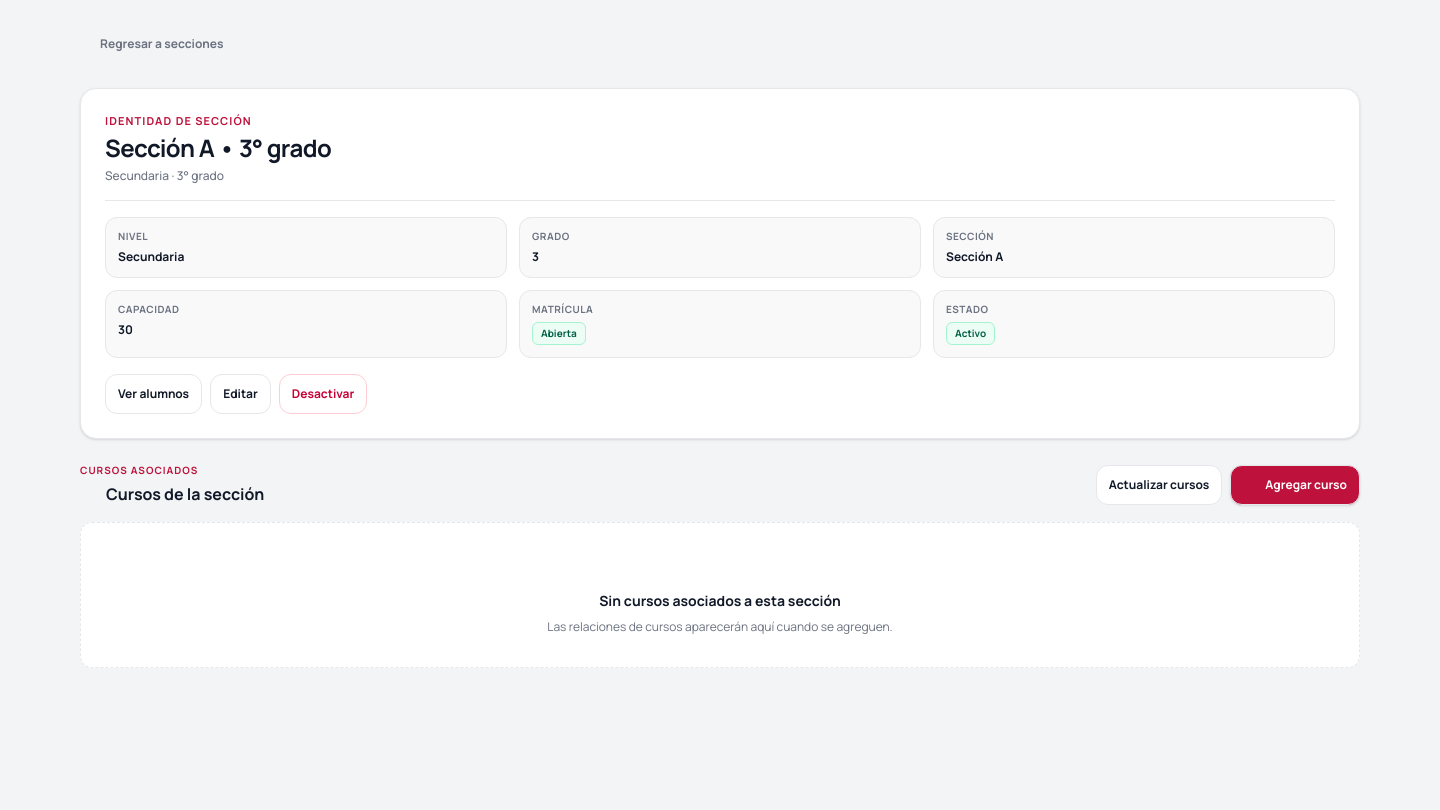
Test: deactivation that finds the section already inactive does not ask for confirmation
The width and height of the screenshot is (1440, 810).
Click the button "Desactivar" at (323, 394), box top-left (279, 374), bottom-right (367, 414)
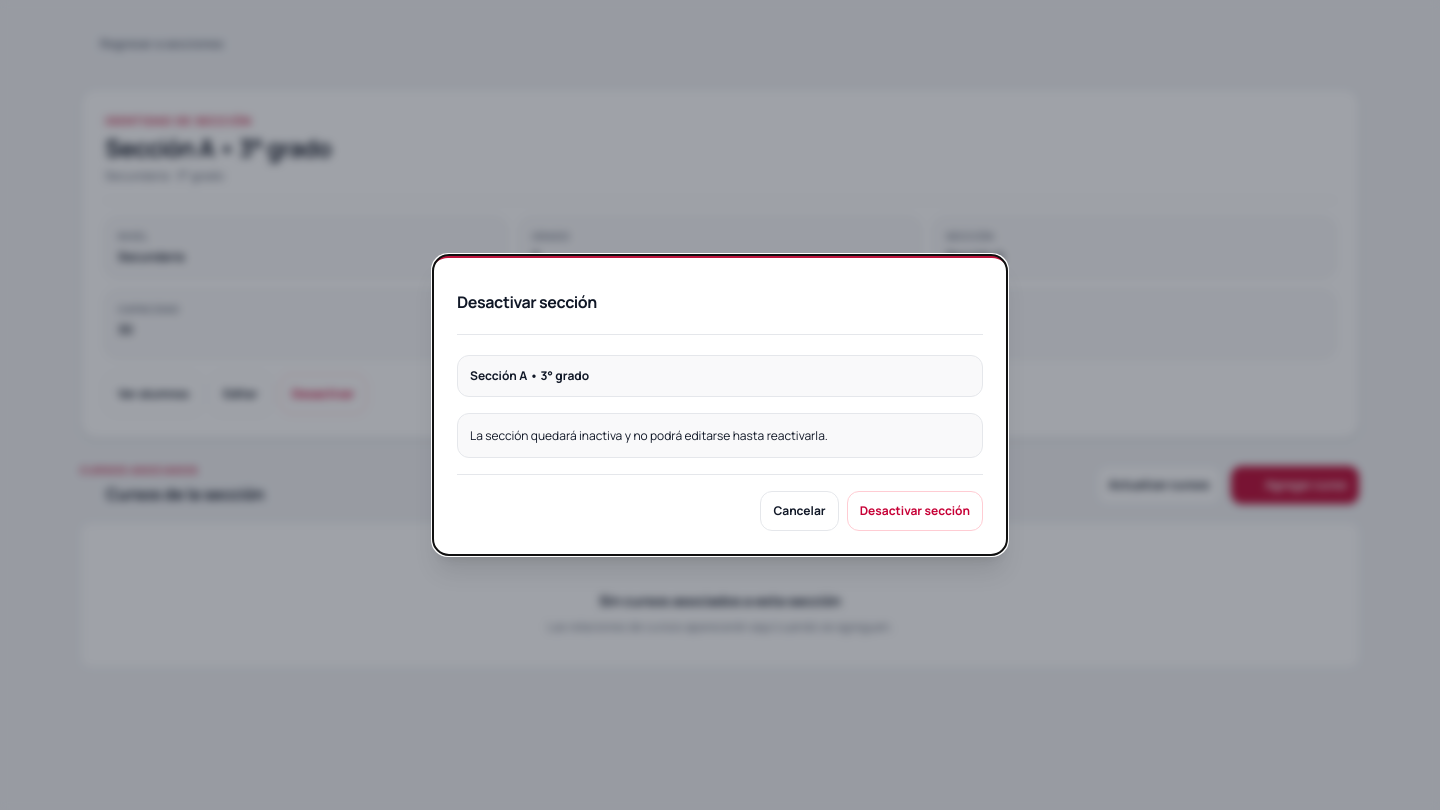
Submit the form, box top-left (457, 355), bottom-right (983, 531)
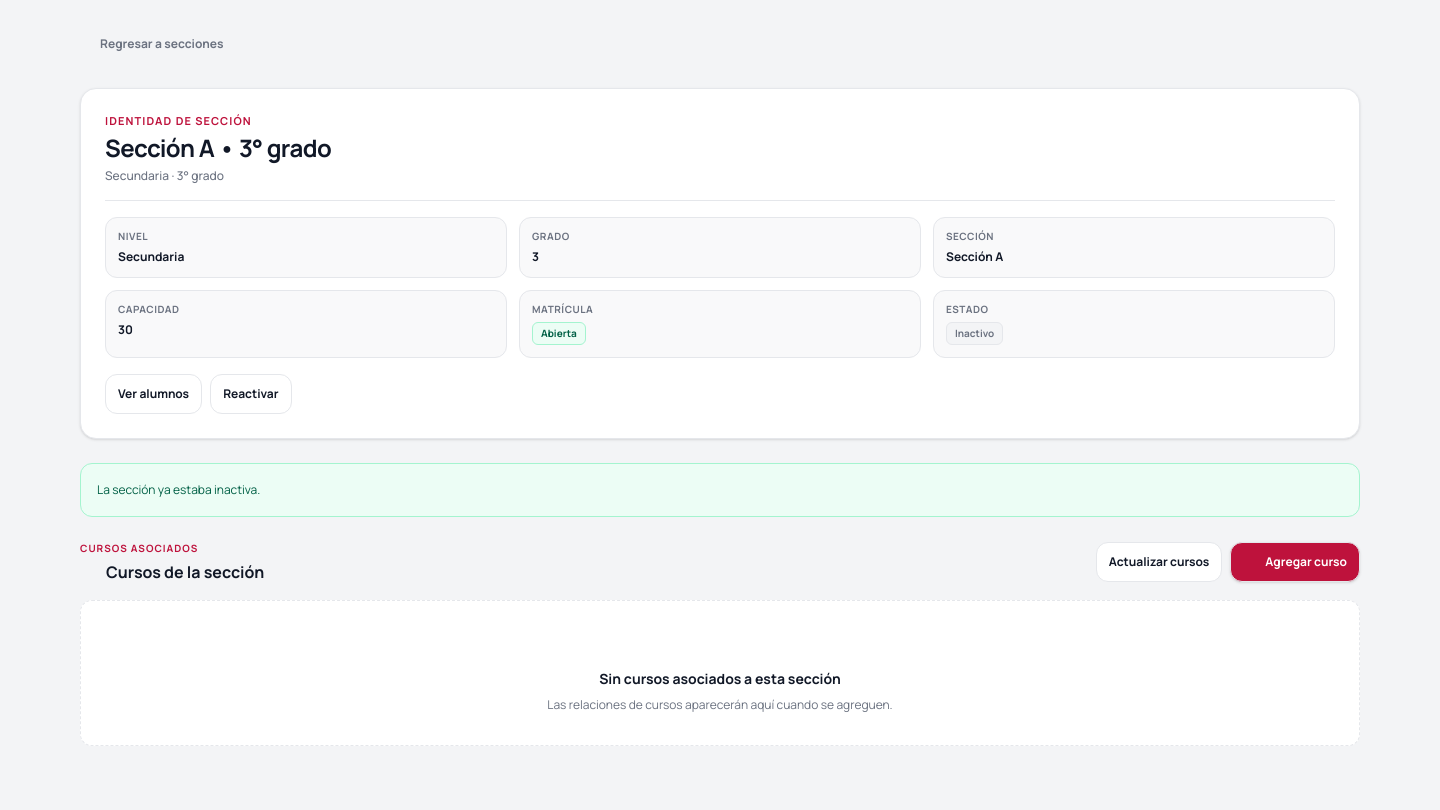
Result: the button "Reactivar" is shown at top-left (210, 374), bottom-right (292, 414)
Result: the text "La sección ya estaba inactiva" is shown at top-left (97, 482), bottom-right (260, 498)
